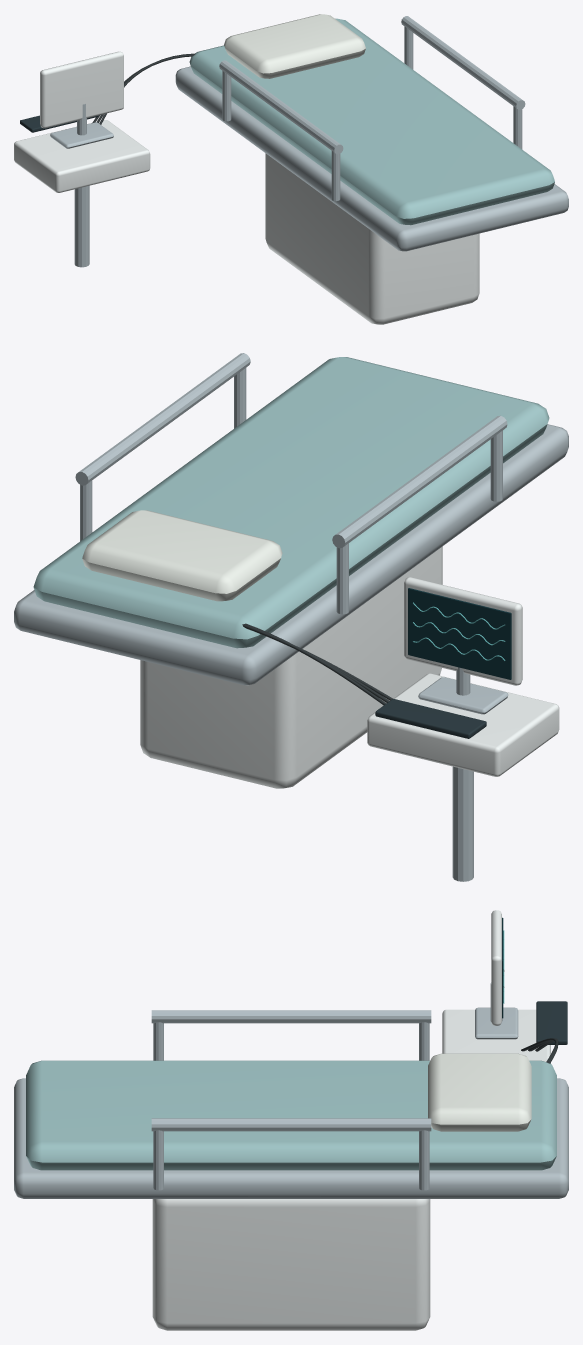
File: eeg.glb
3 renders of one model, top to bottom at view 1: azimuth 30°, elevation 25°; view 2: azimuth 150°, elevation 25°; view 3: azimuth 270°, elevation 25°, orthographic. The views are drawn at different scales.
Visible parts, largest first — view 1: Mattress, Clinical bed pedestal, Adjustable bed frame, Pillow; view 2: Mattress, Clinical bed pedestal, Adjustable bed frame, Pillow, Recording fictional display, Recording keyboard, Equipment cable; view 3: Mattress, Clinical bed pedestal, Adjustable bed frame, Pillow, Recording keyboard.
Boxes of the visible parts, x1,y1,x2,y2 form: Mattress: (189, 18, 554, 225); Clinical bed pedestal: (14, 51, 479, 324); Adjustable bed frame: (50, 16, 568, 267); Pillow: (224, 14, 365, 78); Mattress: (33, 357, 549, 648); Clinical bed pedestal: (140, 546, 559, 788); Adjustable bed frame: (14, 353, 568, 881); Pillow: (82, 510, 282, 601); Recording fictional display: (408, 588, 511, 679); Recording keyboard: (375, 699, 486, 738); Equipment cable: (242, 623, 393, 705); Mattress: (26, 1060, 556, 1170); Clinical bed pedestal: (152, 910, 550, 1330); Adjustable bed frame: (14, 982, 568, 1198); Pillow: (428, 1053, 531, 1131); Recording keyboard: (536, 1001, 567, 1044).
Size of the model in its own units: 2.03 by 1.13 by 2.3.
